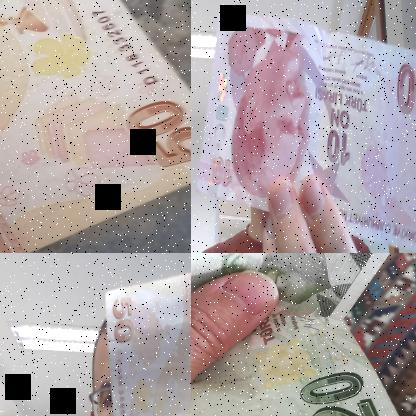5 TL: (0, 0, 190, 252)
